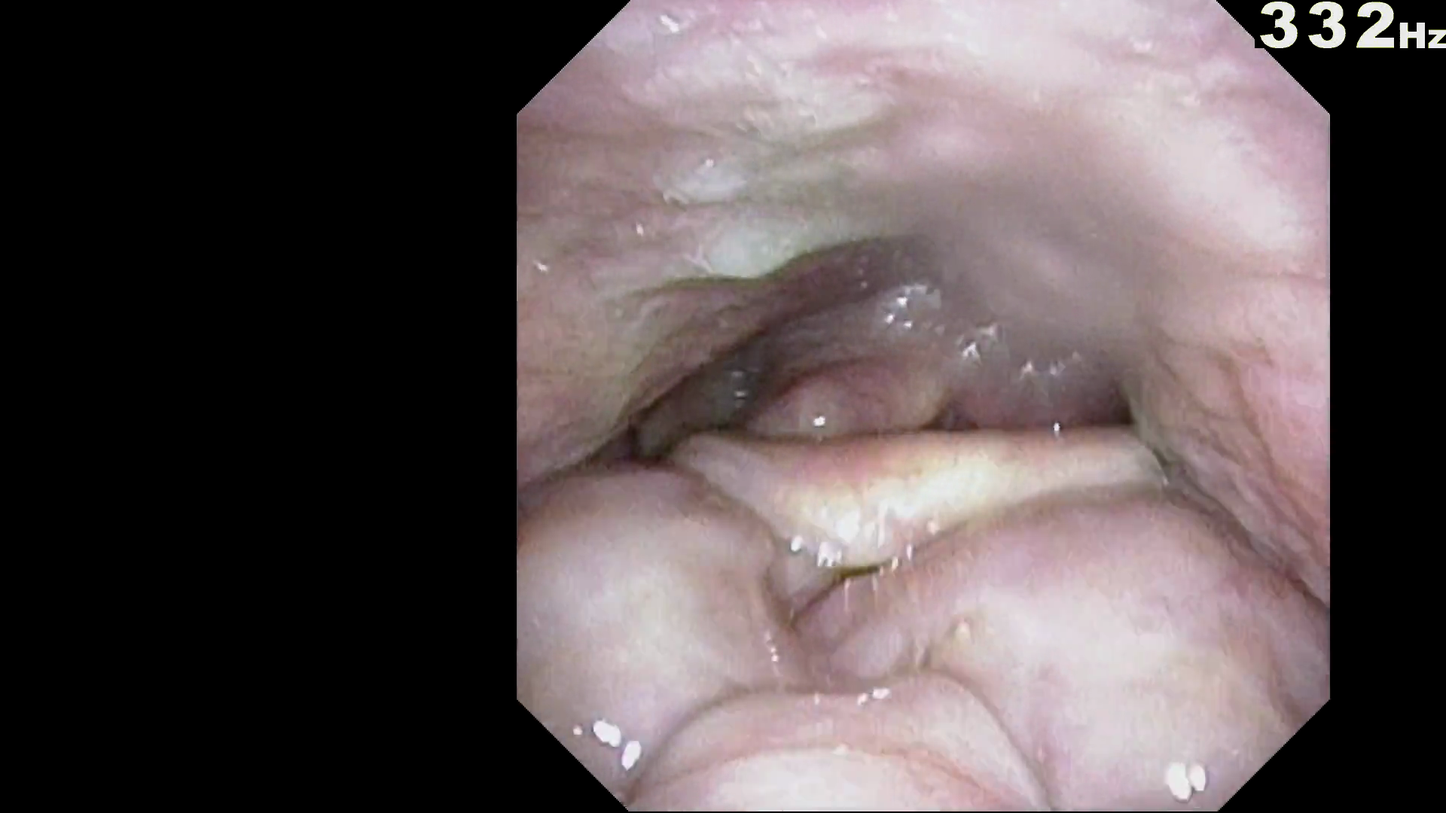epiglottis: (647, 427, 1133, 563)
trachea: (859, 417, 982, 514)
